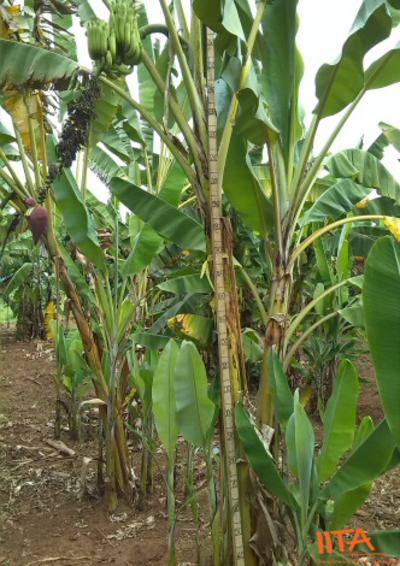bananaHand: (84, 1, 147, 83)
